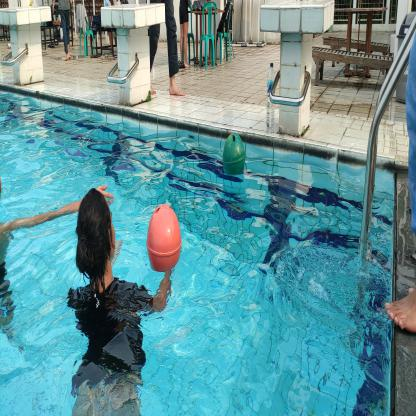green_buoy: (220, 132, 246, 180)
red_buoy: (145, 200, 184, 274)
